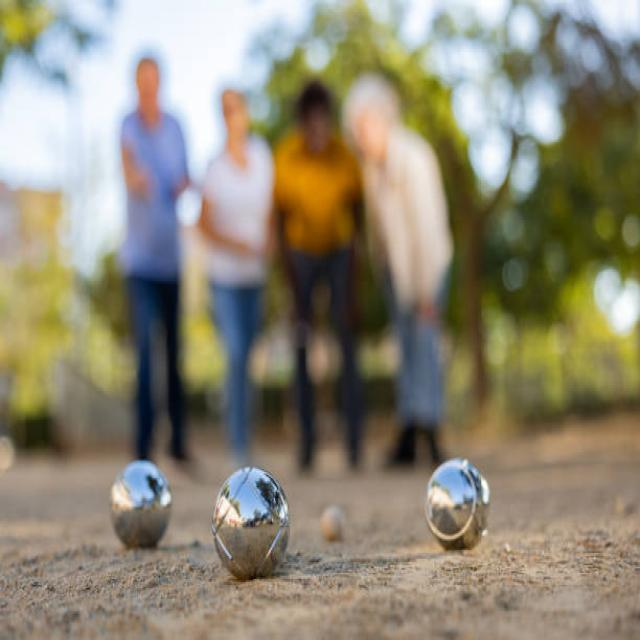hatball: (315, 501, 350, 549)
petanque: (205, 458, 297, 588), (422, 450, 496, 562), (106, 453, 179, 557)
